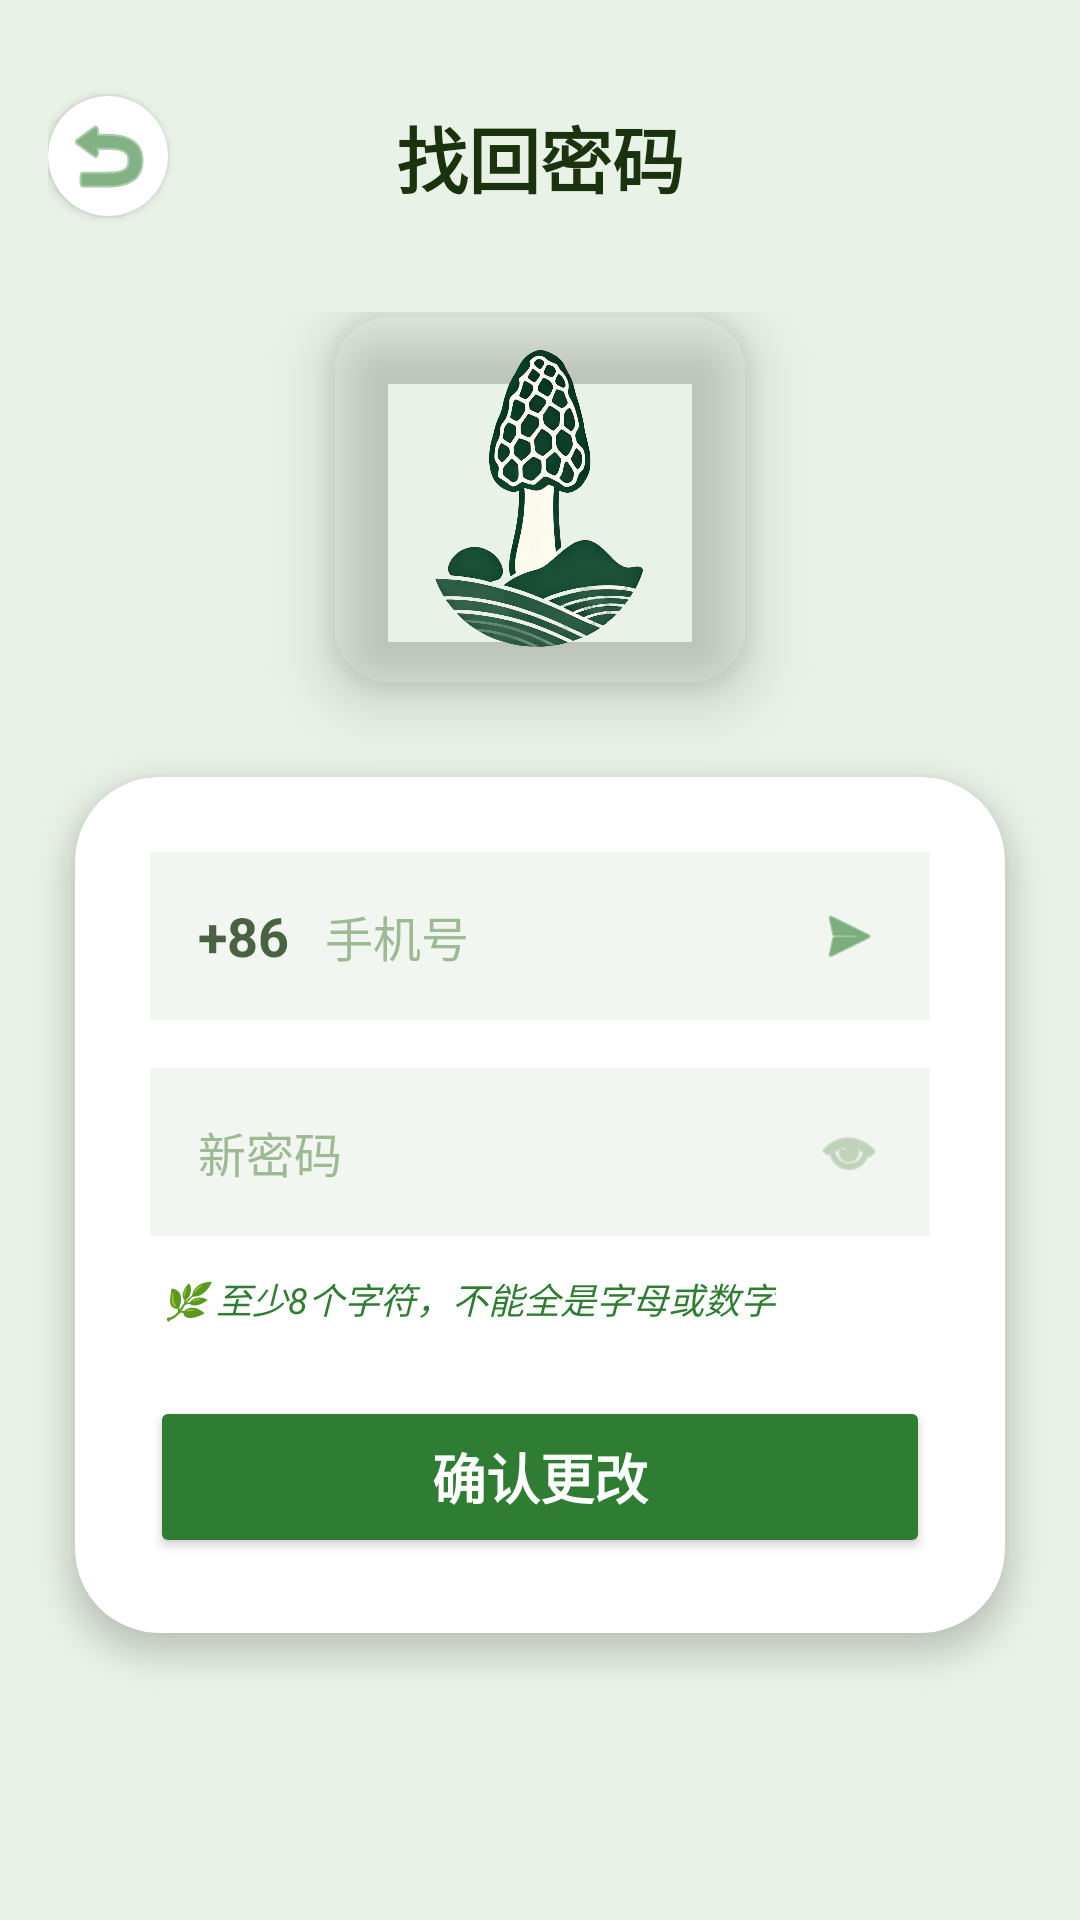

Where icons sit on this 1080×1920 app screen, as [left=x1, top=y1, right=x2, bottom=y2]:
revert: [left=48, top=96, right=167, bottom=216]
send: [left=828, top=916, right=871, bottom=957]
view: [left=823, top=1137, right=875, bottom=1170]
